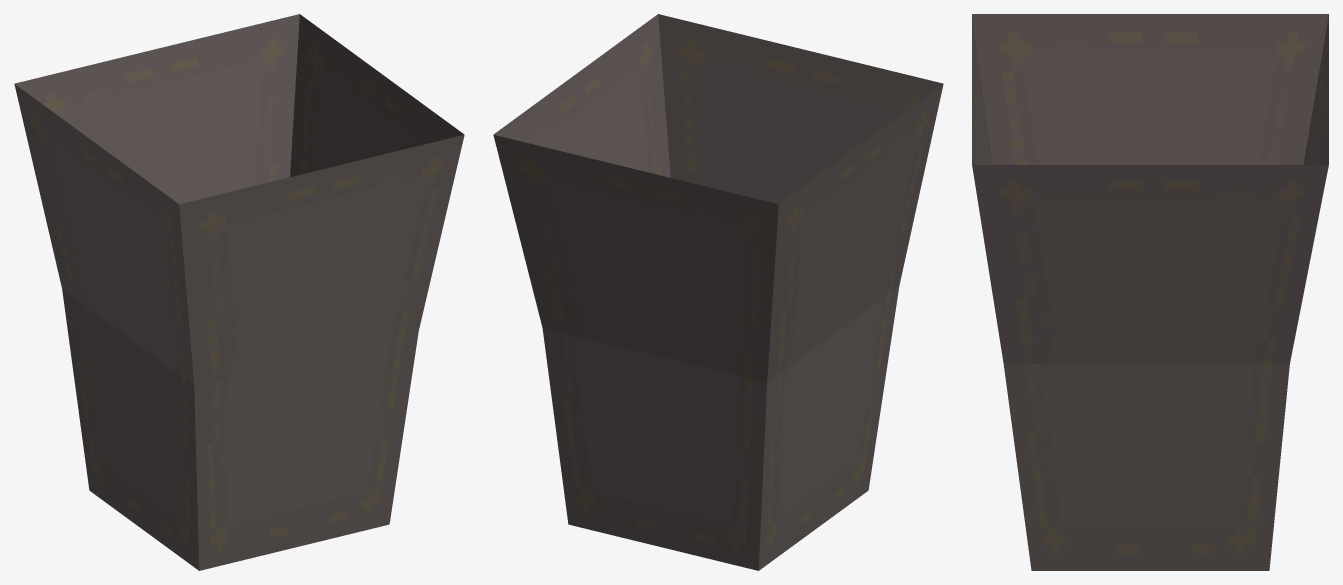
File: trashcan.glb
3 views of the same model, side by side, from view 1: azimuth 30°, elevation 25°; view 2: azimuth 150°, elevation 25°; view 3: azimuth 270°, elevation 25° (orthographic). The views are drawn at different scales.
Parts seen in each view (by area): view 1: Mesh_0.003; view 2: Mesh_0.003; view 3: Mesh_0.003.
Boxes of the visible parts, <box> form: Mesh_0.003: <box>14,14,464,570</box>; Mesh_0.003: <box>493,14,943,570</box>; Mesh_0.003: <box>972,14,1328,570</box>.
Bounding box in the file's own units: 1.5 × 2 × 1.5.
1 material, 1 textured.
